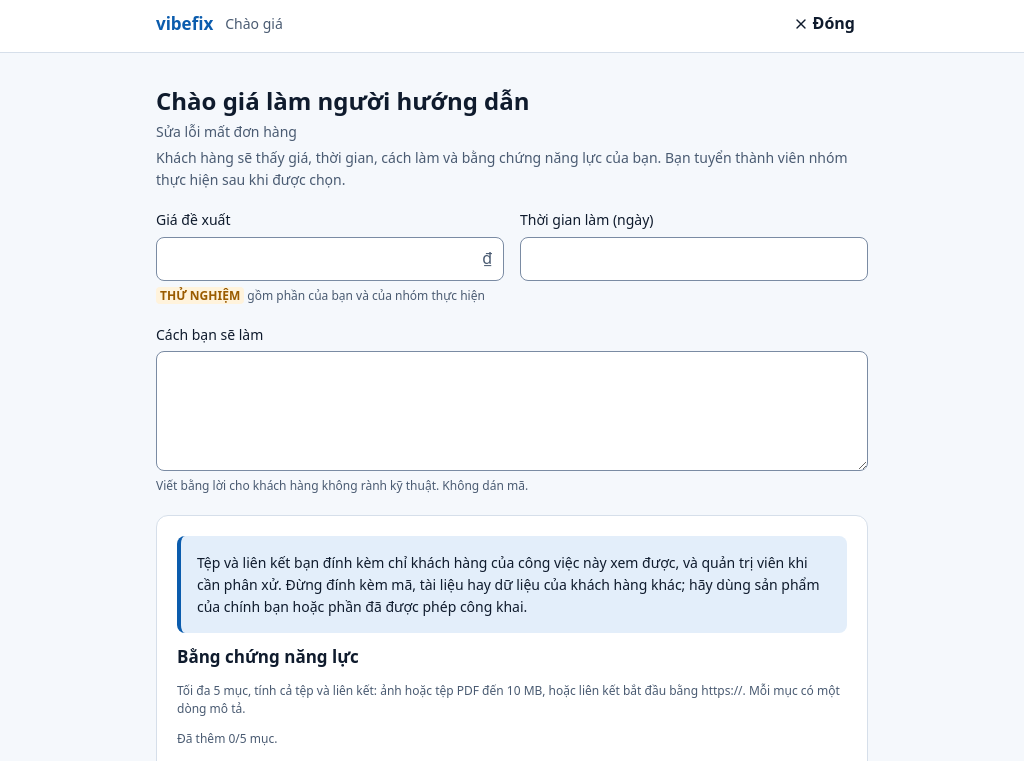
Test: FND-1, a bid with a quote and proof (UX-DR99, FR-13) › says GitHub not linked, with the way to ACC-2 (FR-80) inline
This screenshot has width=1024, height=761.
In the field labelled "Giá đề xuất": (330, 259) 156,237 -> 504,281, type "800000"
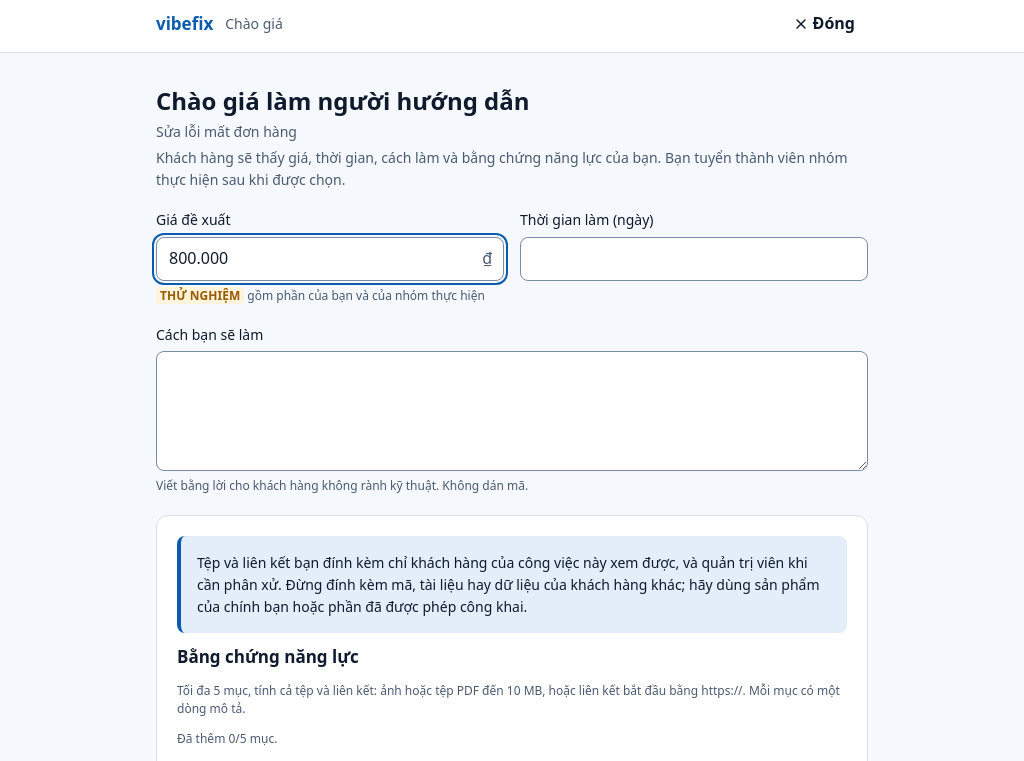
In the number field labelled "Thời gian làm (ngày)": (694, 259) 520,237 -> 868,281, type "5"
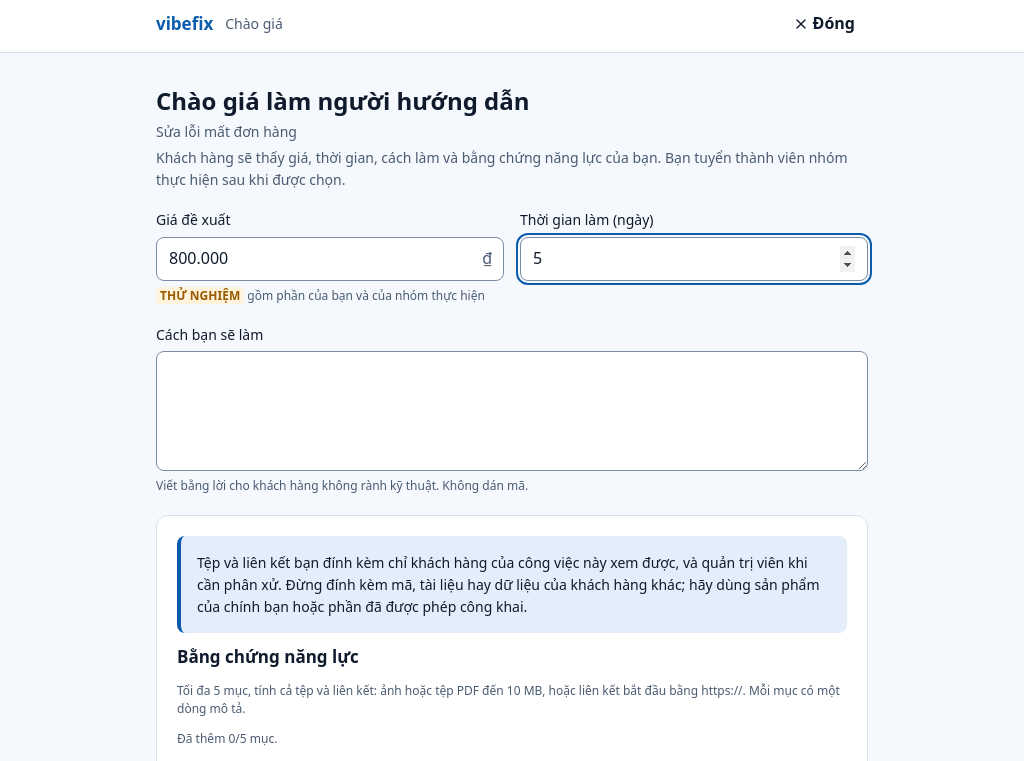
In the text box labelled "Cách bạn sẽ làm": (512, 411) 156,351 -> 868,471, type "Sửa lỗi."
(page scrolled)
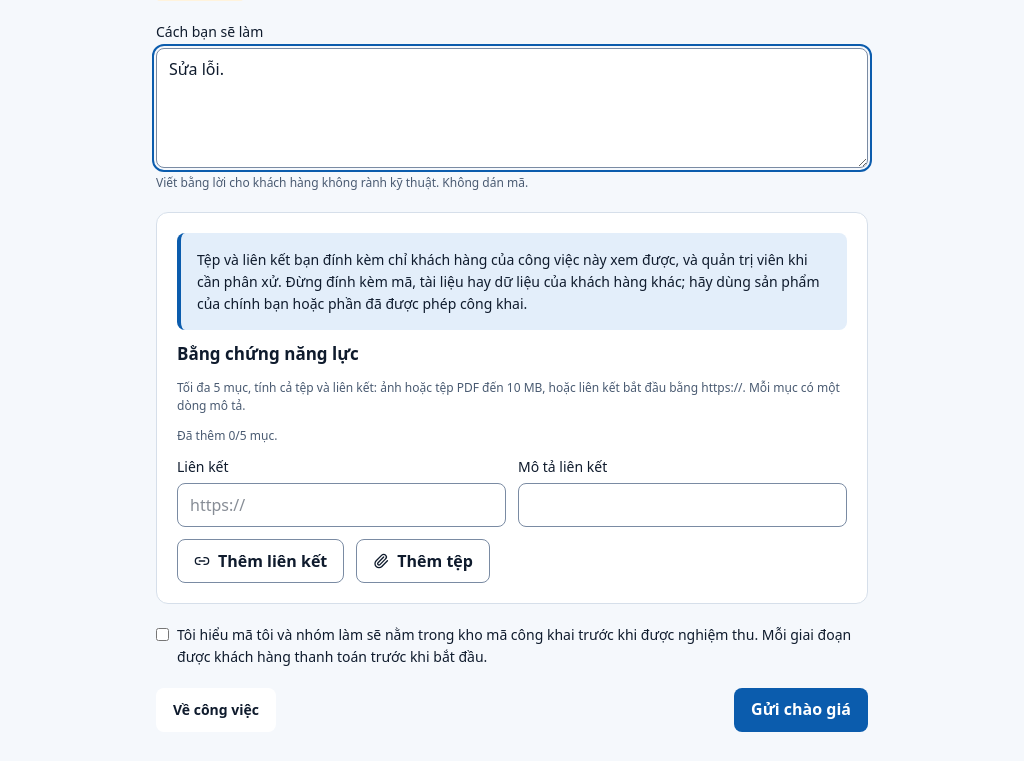
Click the checkbox labelled "Tôi hiểu mã tôi và nhóm làm": click(162, 635) 156,628 -> 169,641
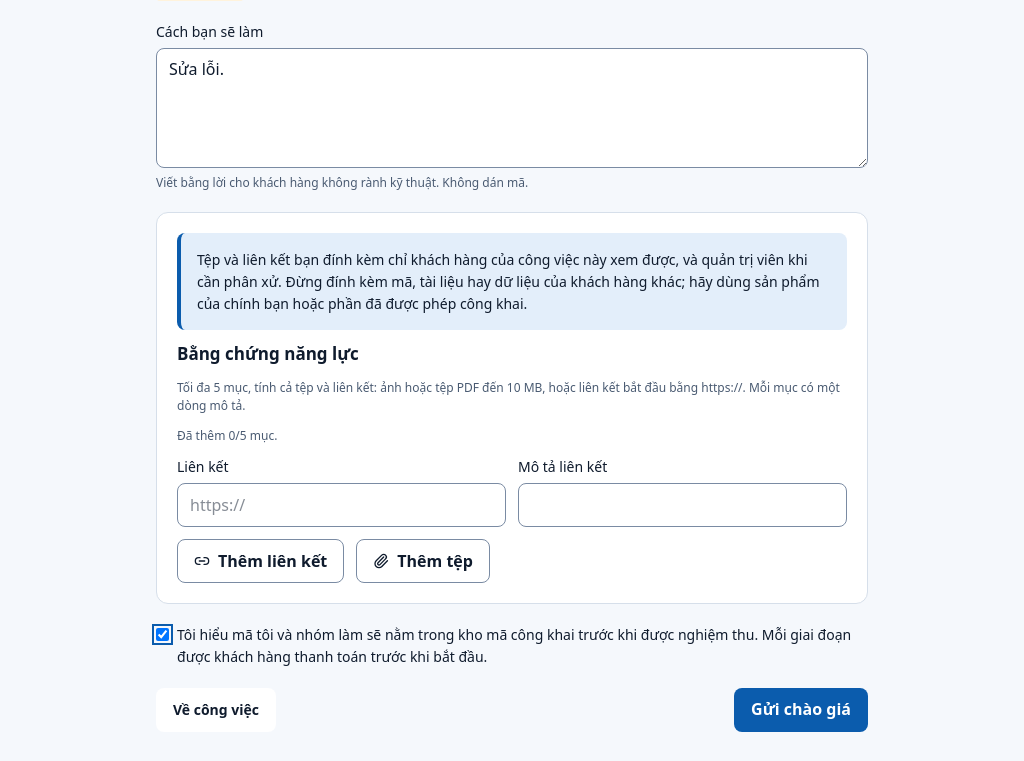
Click the button "Gửi chào giá": click(801, 710) 734,688 -> 868,732
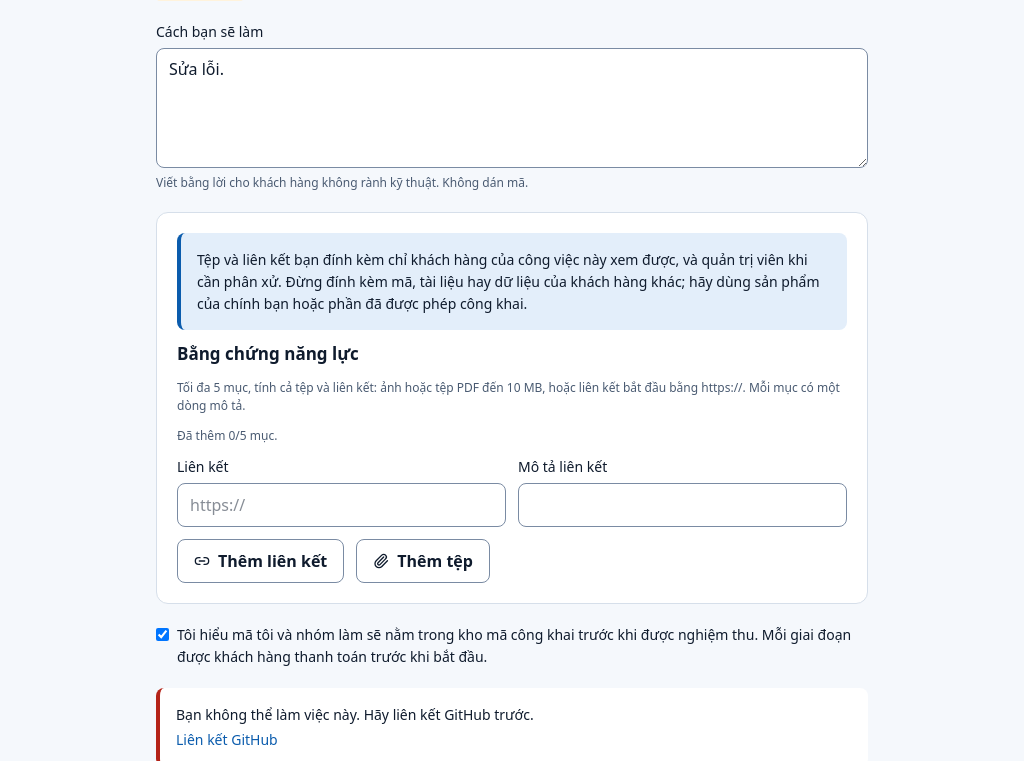
Expected: the message shows "Bạn không thể làm việc này. Hãy liên kết GitHub trước.", 176,705 -> 534,724
